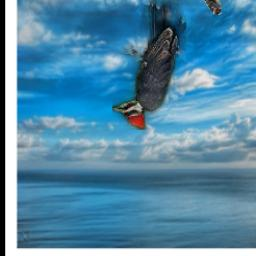Swallow: (198, 0, 222, 15)
Woodpecker: (111, 0, 185, 131)
